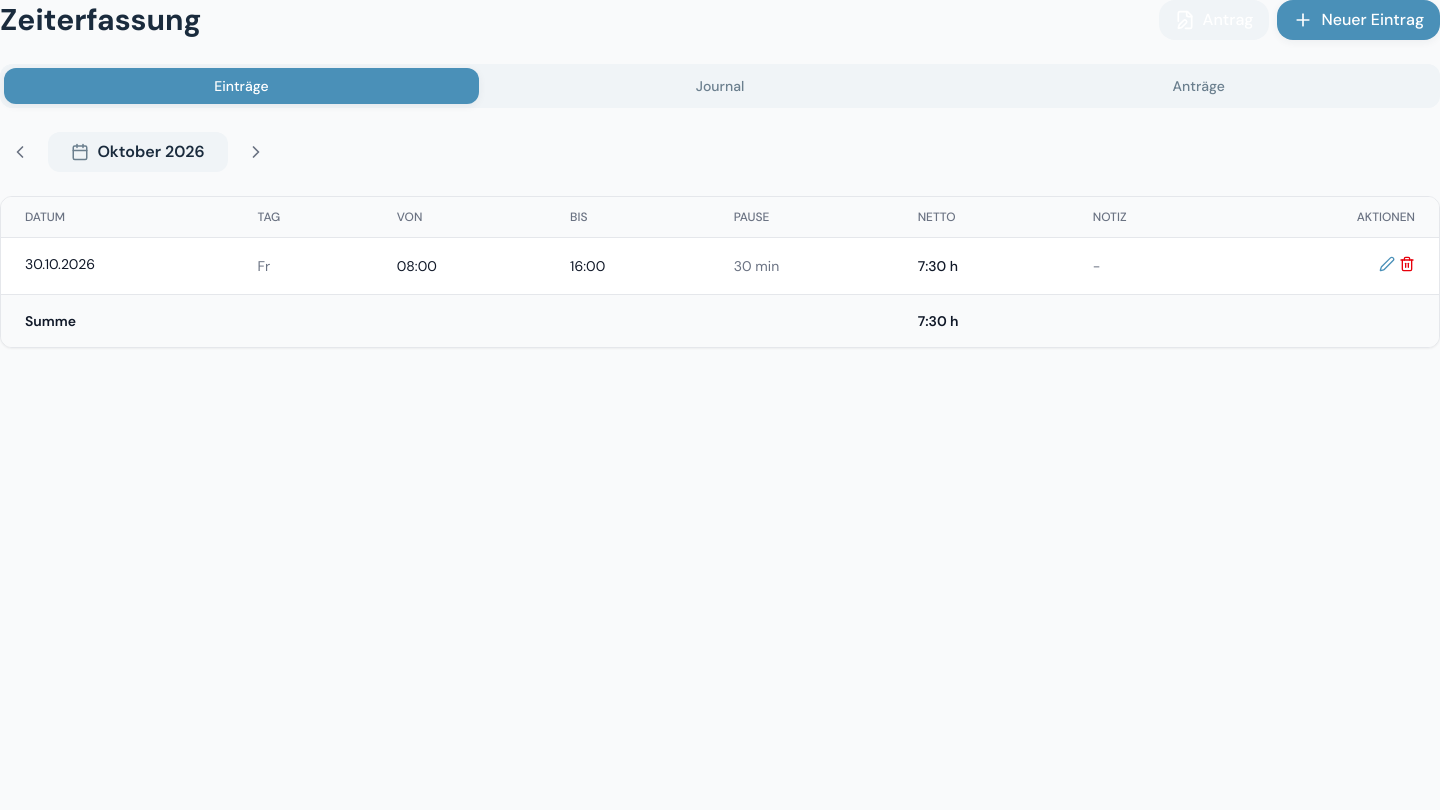
it: <TimeTracking /> Pflicht-Pause-Ausnahme (#499) › bietet die Checkbox an, solange die Ausnahme erlaubt ist (Default)
Click the button named "bearbeiten" at (1387, 264), box [1379, 256, 1395, 272]
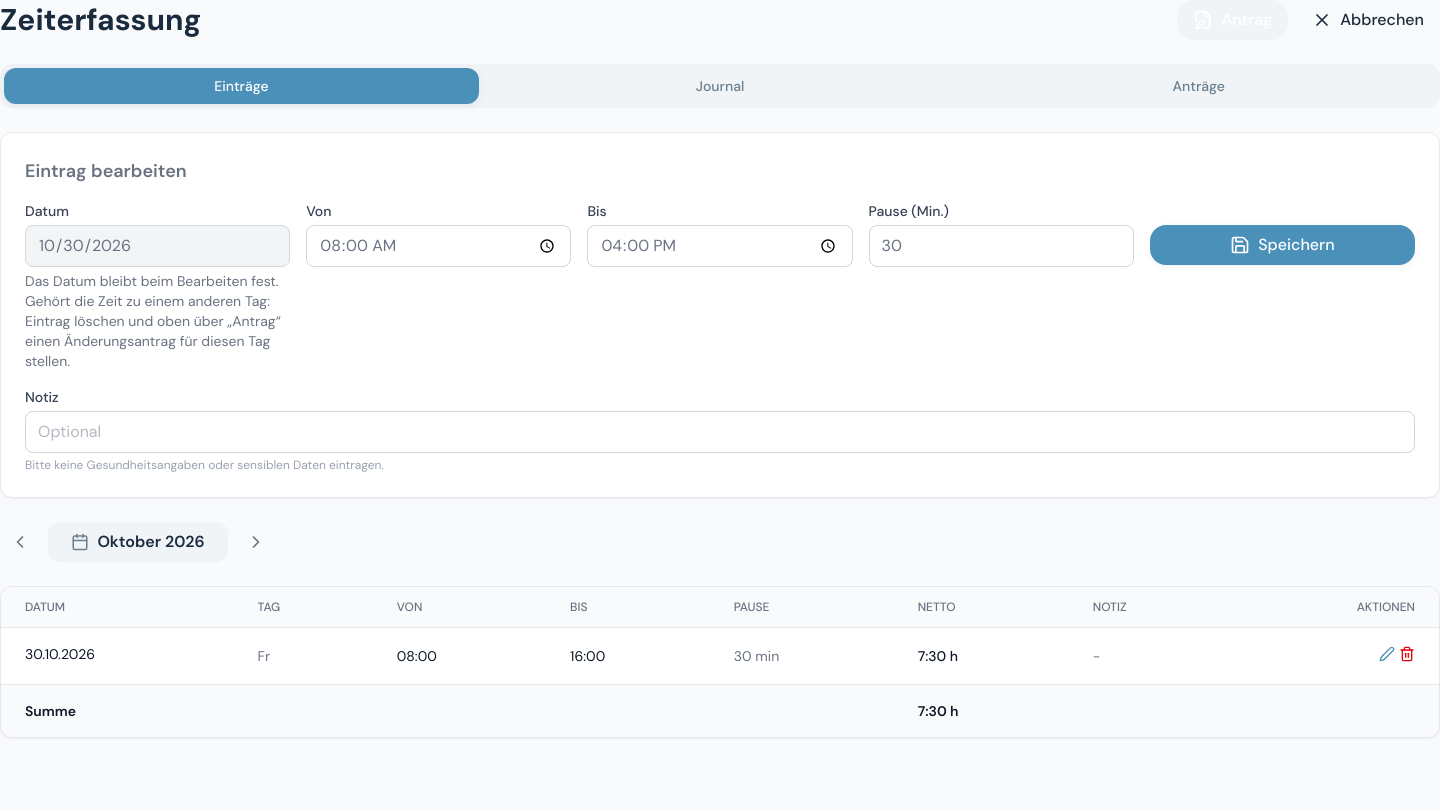
Replace the text in the number field labelled "Pause (Min.)" with "0" at (1001, 246), box [869, 225, 1134, 267]
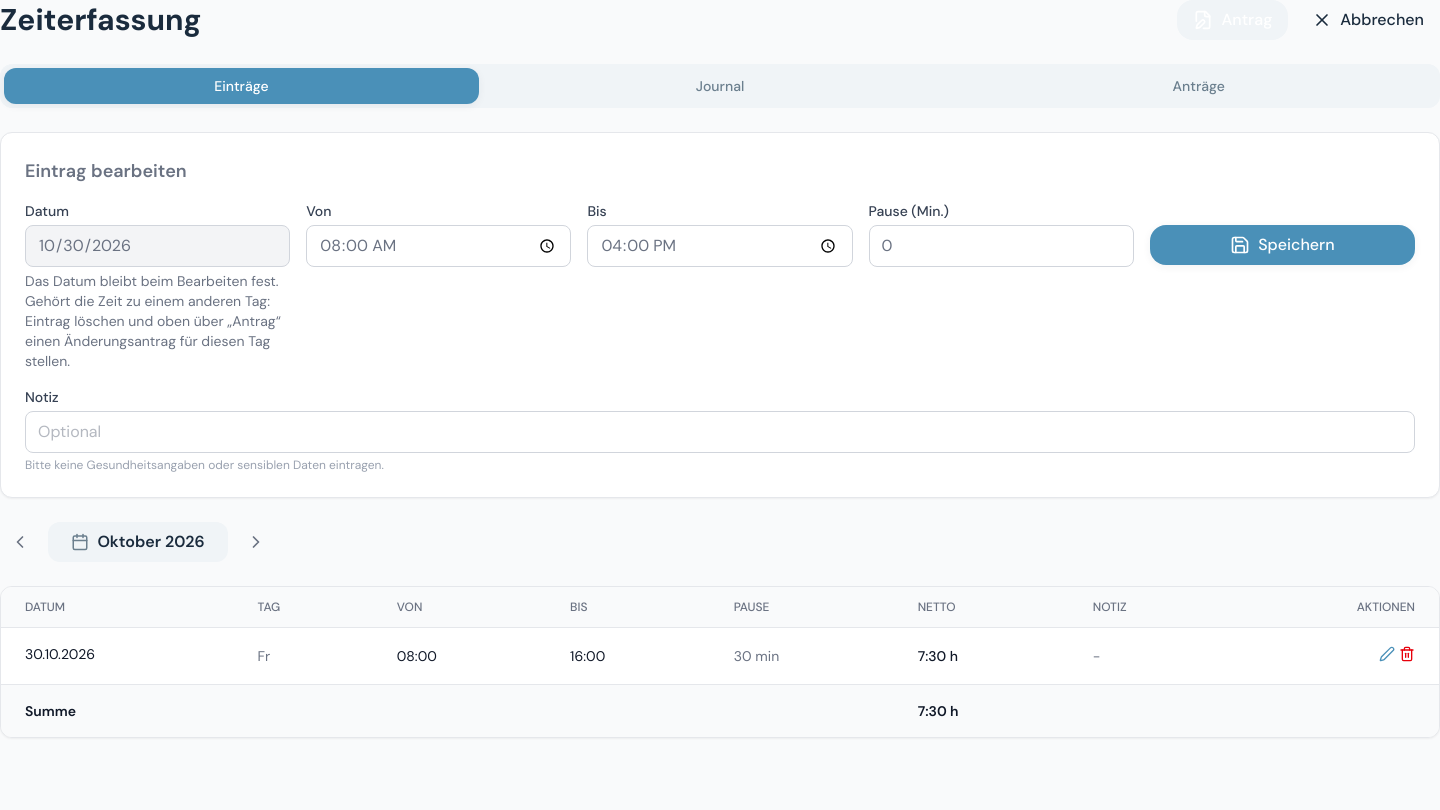
Submit the form with id "time-entry-form", box [25, 201, 1415, 473]
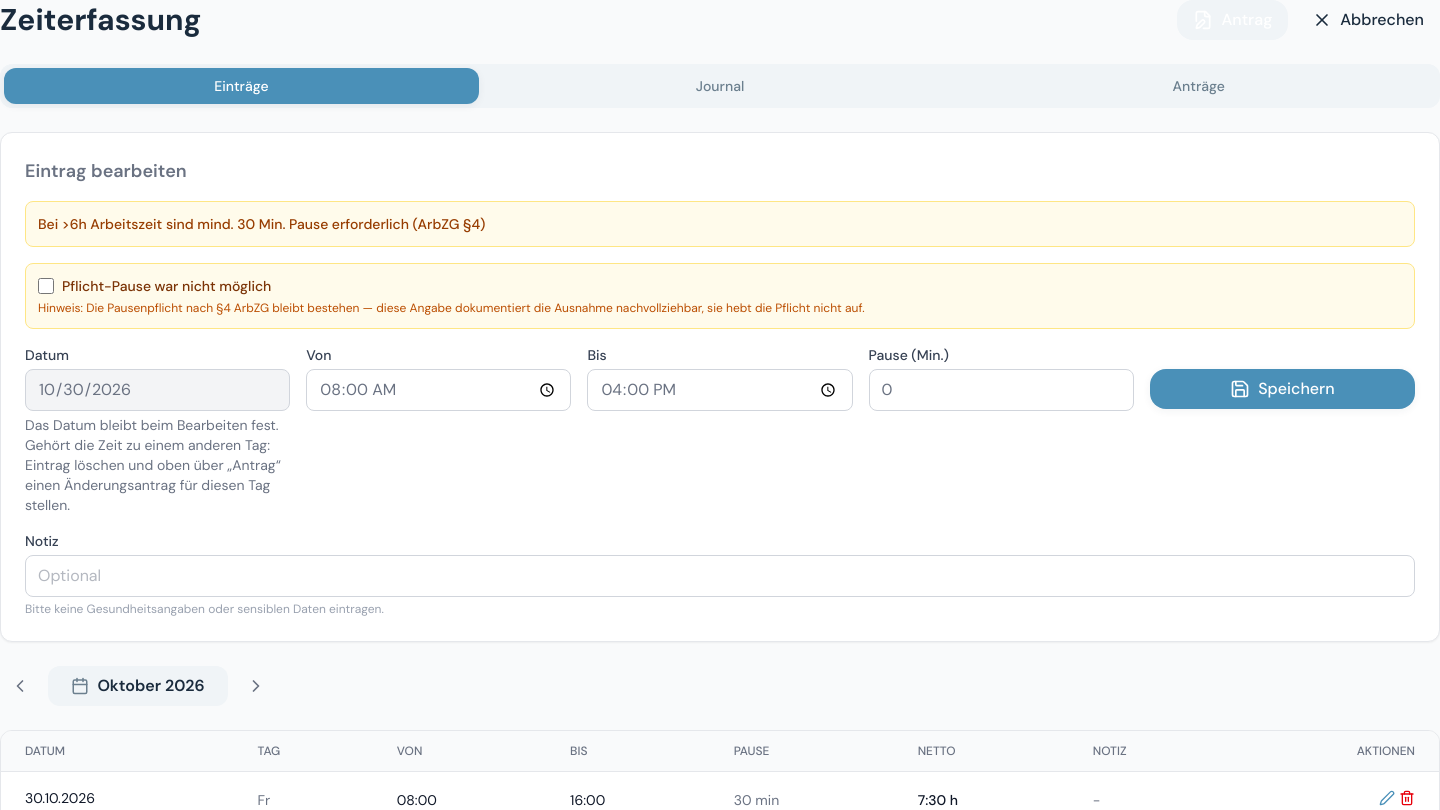
Now the text "Pflicht-Pause war nicht möglich" is shown, box [62, 276, 271, 296]
